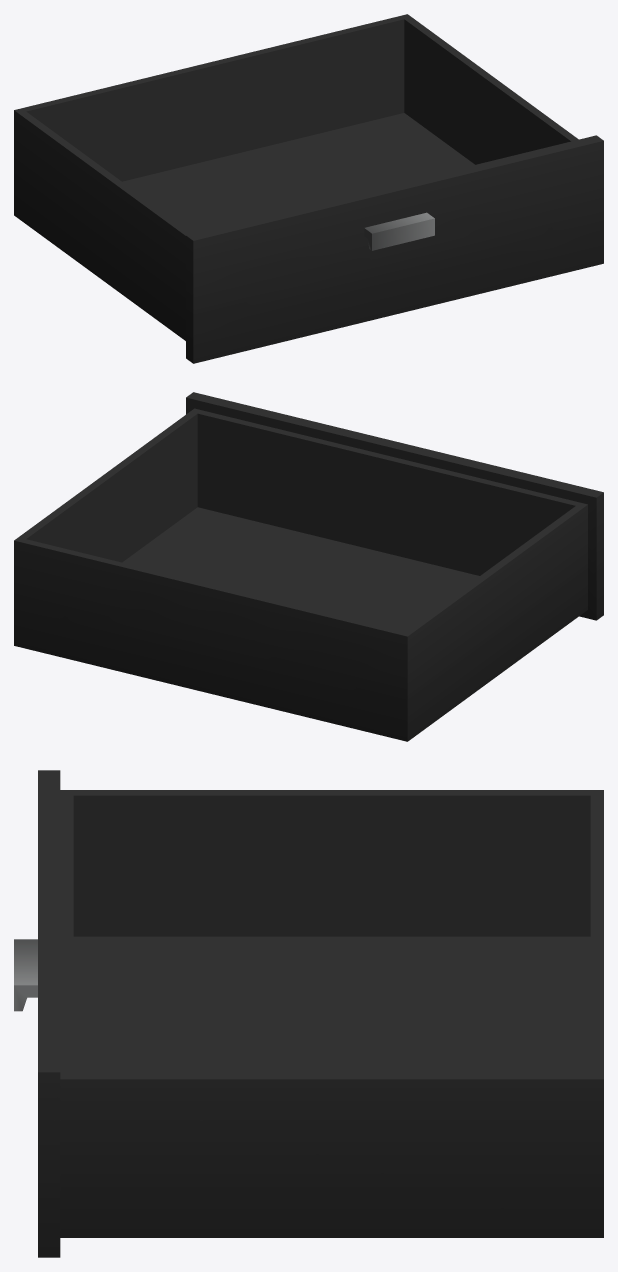
The model's file is Drawer_SideboardCabinet_Black_medium.fbx.
3 views of the same model, one above another, from view 1: azimuth 30°, elevation 25°; view 2: azimuth 150°, elevation 25°; view 3: azimuth 270°, elevation 25° (orthographic). The views are drawn at different scales.
Visible parts, largest first — view 1: Drawer_SideboardCabinet_Black_medium; view 2: Drawer_SideboardCabinet_Black_medium; view 3: Drawer_SideboardCabinet_Black_medium.
Part boxes in pixels (x1,y1,x2,y2): Drawer_SideboardCabinet_Black_medium: [14, 14, 603, 363]; Drawer_SideboardCabinet_Black_medium: [14, 392, 603, 741]; Drawer_SideboardCabinet_Black_medium: [14, 770, 603, 1257].
Bounding box in the file's own units: 78.47 × 22.45 × 64.83.
